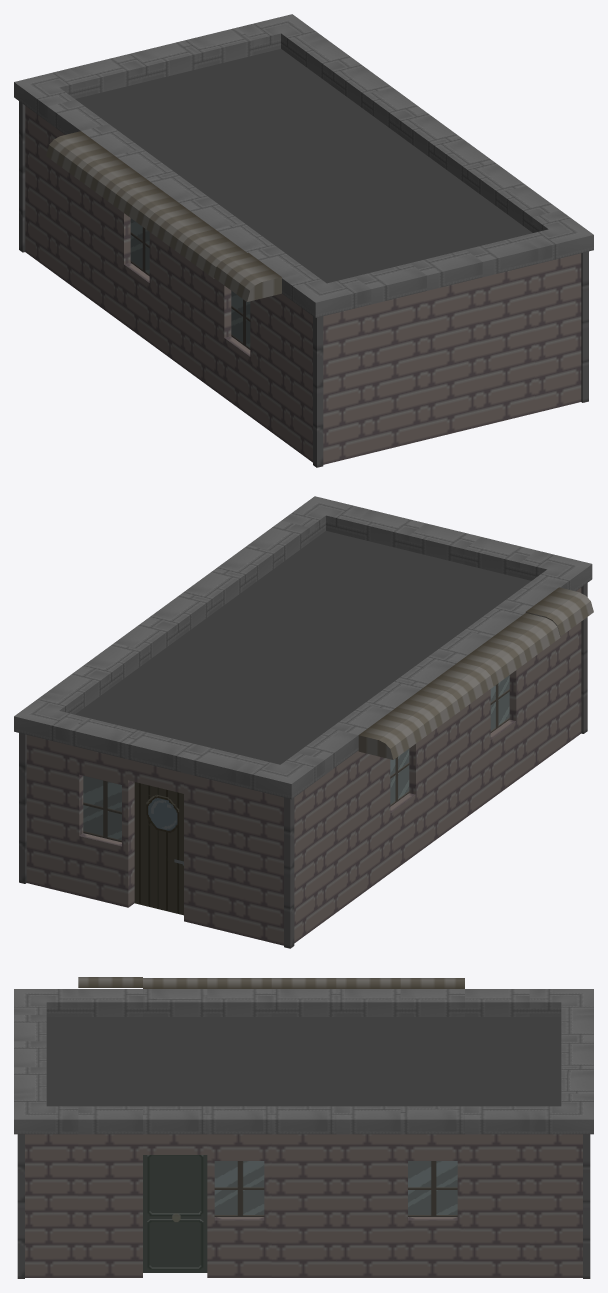
The model's file is SM_Building_A_01.fbx.
The picture shows the model from 3 angles, top to bottom: view 1: azimuth 30°, elevation 25°; view 2: azimuth 150°, elevation 25°; view 3: azimuth 270°, elevation 25°; orthographic projection. The views are drawn at different scales.
Visible parts, largest first — view 1: SM_Building_A_01; view 2: SM_Building_A_01; view 3: SM_Building_A_01.
Part boxes in pixels (x1,y1,x2,y2): SM_Building_A_01: (14,14,593,467); SM_Building_A_01: (14,496,593,948); SM_Building_A_01: (14,977,593,1278).
Bounding box in the file's own units: 600 × 308 × 1000.
